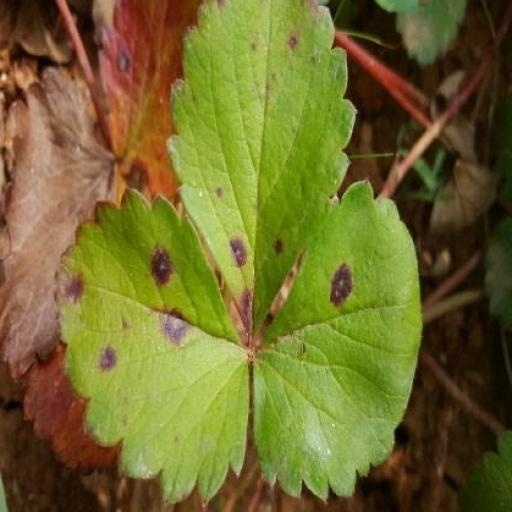Leaf Spot: (154, 161, 348, 511), (261, 3, 459, 325), (88, 6, 260, 332), (312, 298, 420, 511)
